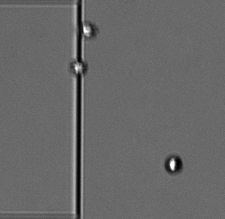Living Cell: (164, 154, 183, 175), (69, 58, 87, 75), (80, 22, 96, 39)
